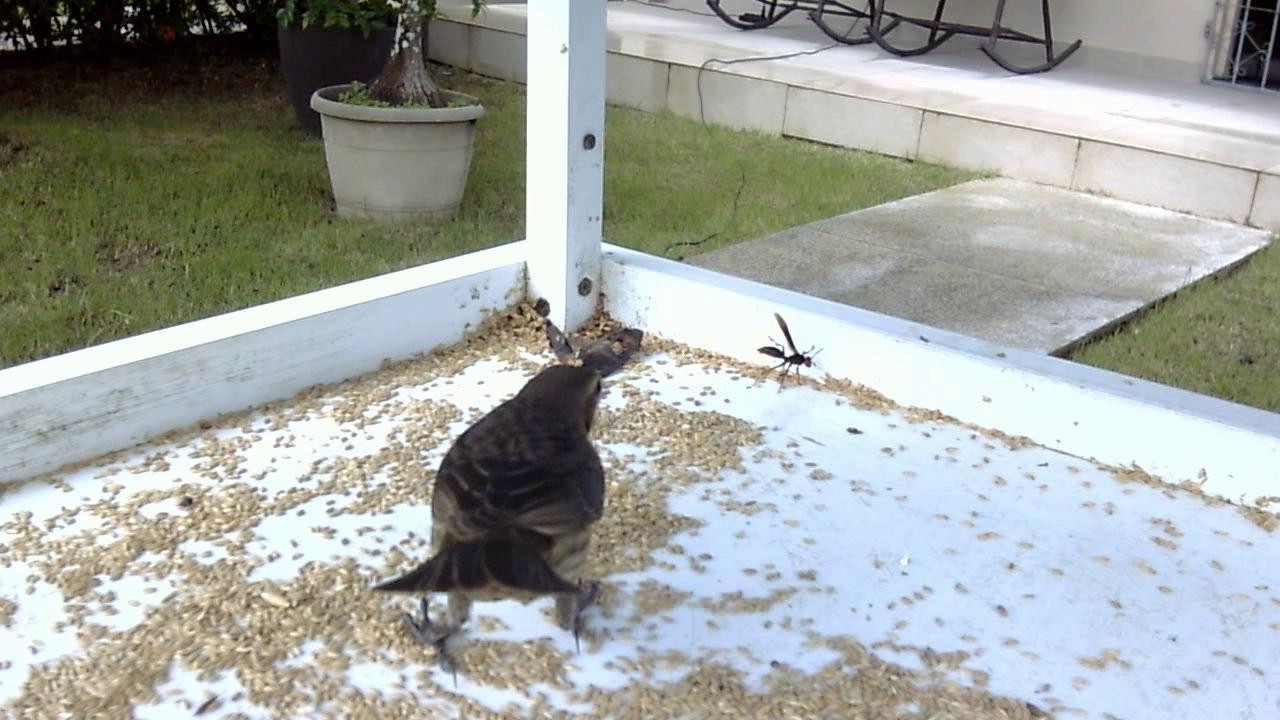chupim: (364, 305, 660, 668)
